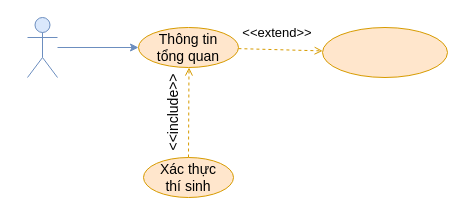
Image size: 465x215. Some labels were removed from this diagram. The centre of each missing label's shape, as x and y in pixels:
Thí sinh: the point at 42,47
Xem thông tin cá nhân, kỳ thi, đề thi: the point at 385,52
